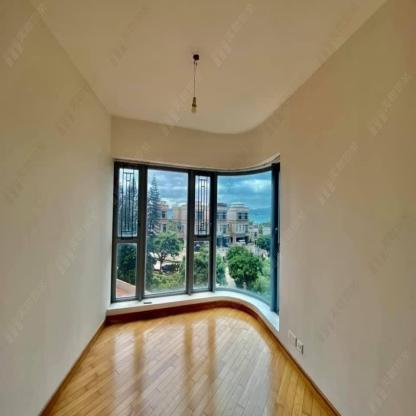Windowsill: (107, 154, 283, 335)
